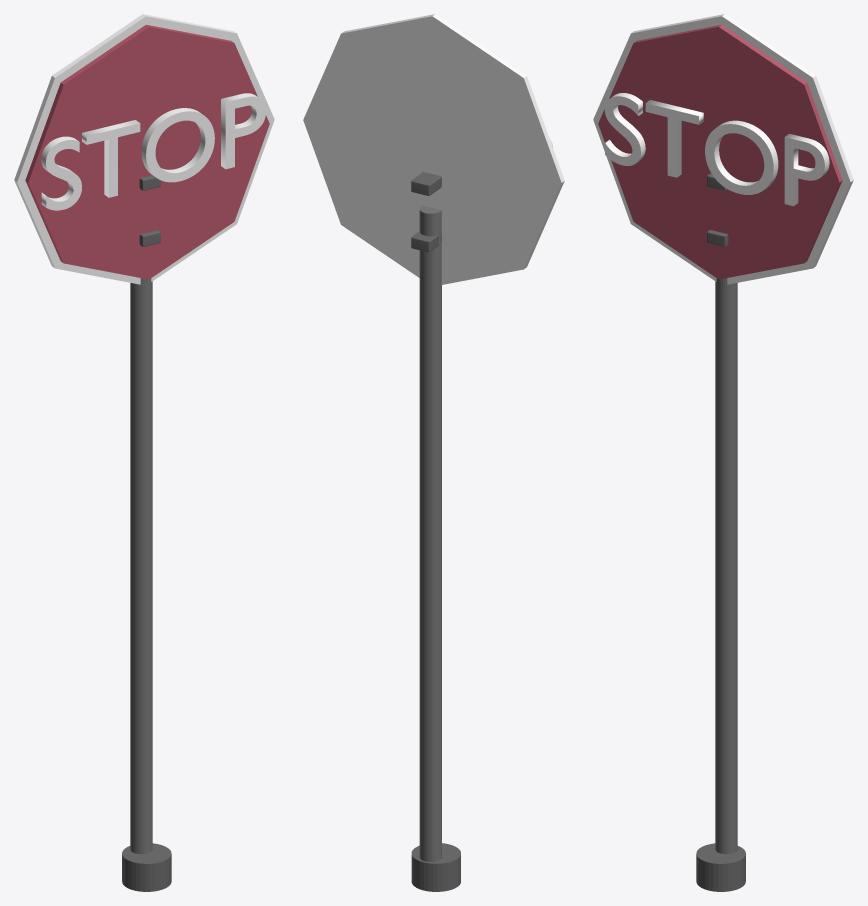
3 renders of one model, left to right at view 1: azimuth 30°, elevation 25°; view 2: azimuth 150°, elevation 25°; view 3: azimuth 330°, elevation 25°, orthographic.
Parts seen in each view (by area): view 1: Cylinder.003, Cylinder.001, Text, Cylinder.002, Cylinder; view 2: Cylinder.002, Cylinder.001, Cylinder, Cube.001; view 3: Cylinder.003, Cylinder.001, Text, Cylinder.002, Cylinder.
Boxes of the visible parts, x1,y1,x2,y2 form: Cylinder.003: (25,24,269,279); Cylinder.001: (130,278,152,854); Text: (41,93,265,210); Cylinder.002: (14,14,274,284); Cylinder: (122,843,171,891); Cylinder.002: (303,14,564,284); Cylinder.001: (419,205,441,861); Cylinder: (411,843,460,891); Cube.001: (411,172,441,195); Cylinder.003: (598,24,842,279); Cylinder.001: (715,278,737,854); Text: (604,93,829,206); Cylinder.002: (593,14,853,284); Cylinder: (696,843,745,891).
Size of the model in its own units: 0.96 by 3.08 by 0.1849.
